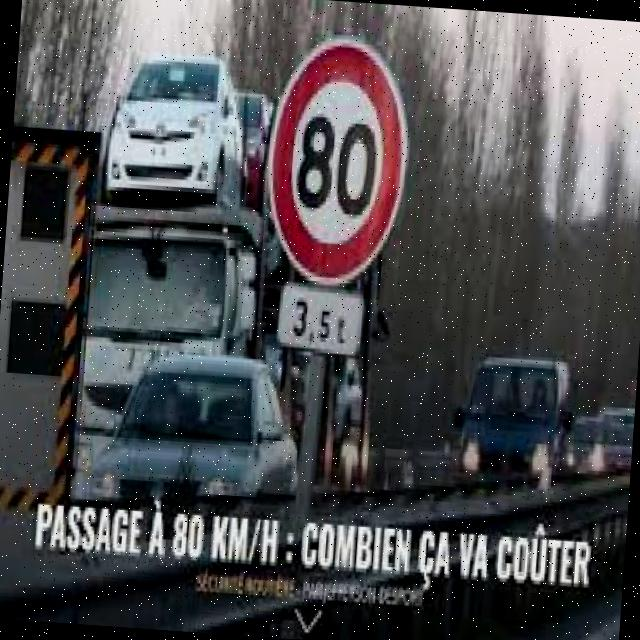Ograniczenie predkosci do 80: (260, 34, 414, 286)
